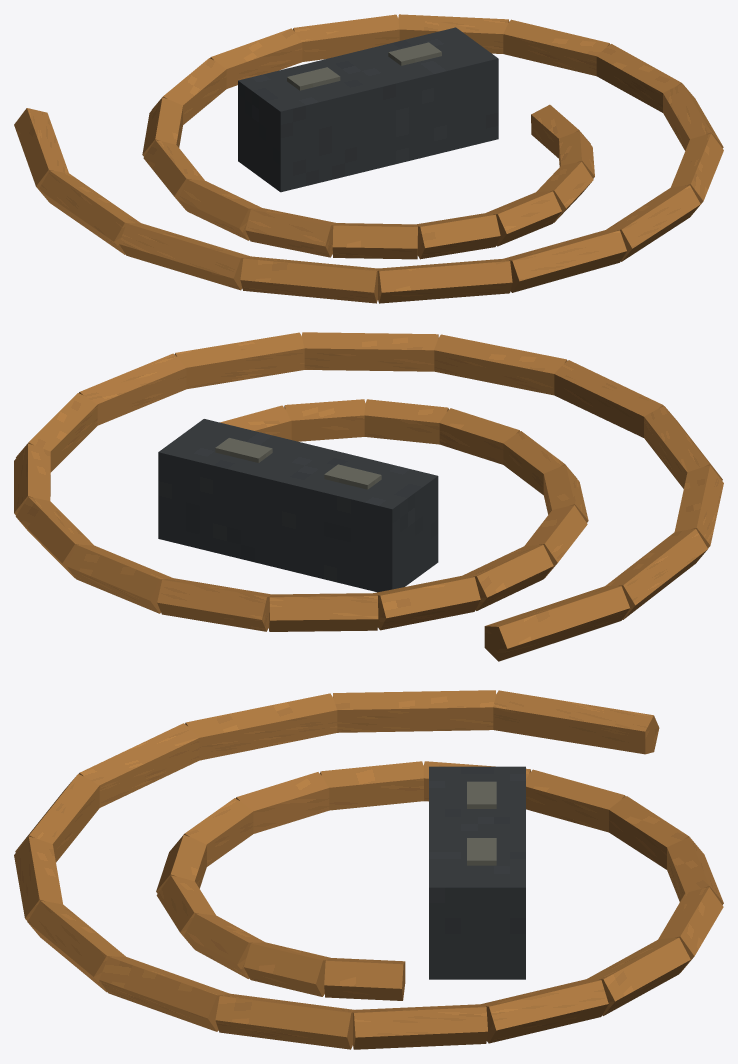
File: extension_cable.glb
The picture shows the model from 3 angles, top to bottom: view 1: azimuth 30°, elevation 25°; view 2: azimuth 150°, elevation 25°; view 3: azimuth 270°, elevation 25°; orthographic projection. The views are drawn at different scales.
Parts seen in each view (by area): view 1: block_socket block, block_wound extension cable 21, block_wound extension cable 20, block_wound extension cable 22, block_wound extension cable 19, block_wound extension cable 14, block_wound extension cable 23, block_wound extension cable 12, block_wound extension cable 6, block_wound extension cable 18, block_wound extension cable 5, block_wound extension cable 11 (+16 smaller); view 2: block_socket block, block_wound extension cable 24, block_wound extension cable 18, block_wound extension cable 19, block_wound extension cable 17, block_wound extension cable 11, block_wound extension cable 10, block_wound extension cable 20, block_wound extension cable 9, block_wound extension cable 16, block_wound extension cable 12, block_wound extension cable 23 (+15 smaller); view 3: block_socket block, block_wound extension cable 24, block_wound extension cable 23, block_wound extension cable 22, block_wound extension cable 16, block_wound extension cable 15, block_wound extension cable 17, block_wound extension cable 14, block_wound extension cable 21, block_wound extension cable 7, block_wound extension cable 13, block_wound extension cable 9 (+15 smaller).
Boxes of the visible parts, bbox=[...] form: block_socket block: bbox=[238, 27, 498, 192]; block_wound extension cable 21: bbox=[240, 256, 378, 303]; block_wound extension cable 20: bbox=[378, 259, 512, 303]; block_wound extension cable 22: bbox=[119, 223, 249, 290]; block_wound extension cable 19: bbox=[503, 230, 626, 292]; block_wound extension cable 14: bbox=[503, 19, 610, 76]; block_wound extension cable 23: bbox=[38, 170, 140, 254]; block_wound extension cable 12: bbox=[293, 14, 399, 61]; block_wound extension cable 6: bbox=[245, 208, 336, 257]; block_wound extension cable 18: bbox=[606, 185, 700, 261]; block_wound extension cable 5: bbox=[332, 223, 417, 259]; block_wound extension cable 11: bbox=[210, 28, 302, 88]; block_socket block: bbox=[158, 419, 438, 592]; block_wound extension cable 24: bbox=[484, 586, 629, 661]; block_wound extension cable 18: bbox=[302, 332, 438, 371]; block_wound extension cable 19: bbox=[434, 334, 567, 395]; block_wound extension cable 17: bbox=[174, 332, 304, 389]; block_wound extension cable 11: bbox=[157, 578, 271, 631]; block_wound extension cable 10: bbox=[269, 593, 378, 631]; block_wound extension cable 20: bbox=[554, 360, 663, 437]; block_wound extension cable 9: bbox=[374, 575, 480, 630]; block_wound extension cable 16: bbox=[79, 353, 186, 425]; block_wound extension cable 12: bbox=[67, 544, 172, 613]; block_wound extension cable 23: bbox=[605, 529, 707, 619]; block_socket block: bbox=[429, 766, 525, 979]; block_wound extension cable 24: bbox=[493, 690, 659, 754]; block_wound extension cable 23: bbox=[333, 690, 496, 732]; block_wound extension cable 22: bbox=[185, 693, 337, 760]; block_wound extension cable 16: bbox=[215, 993, 354, 1049]; block_wound extension cable 15: bbox=[353, 1004, 487, 1049]; block_wound extension cable 17: bbox=[99, 956, 229, 1031]; block_wound extension cable 14: bbox=[481, 979, 608, 1043]; block_wound extension cable 21: bbox=[79, 723, 199, 807]; block_wound extension cable 7: bbox=[320, 761, 423, 810]; block_wound extension cable 13: bbox=[587, 937, 690, 1015]; block_wound extension cable 9: bbox=[526, 769, 625, 832].
Size of the model in its own units: 0.1459 by 0.02 by 0.133.
1 material, 1 textured.
